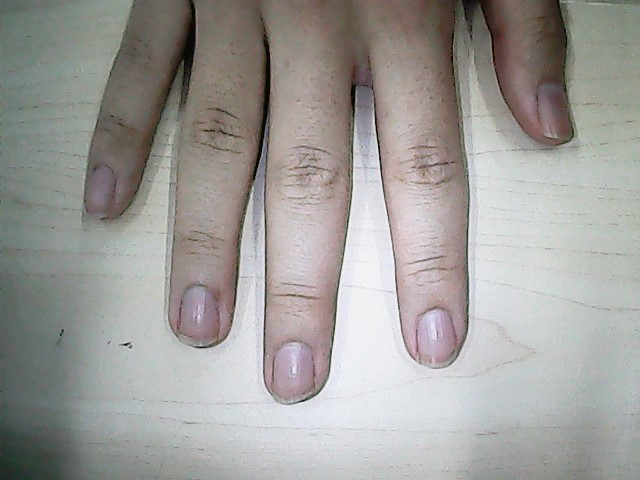nail: (178, 288, 220, 349), (273, 349, 318, 402), (418, 312, 455, 369), (540, 81, 574, 142), (82, 169, 113, 221)
